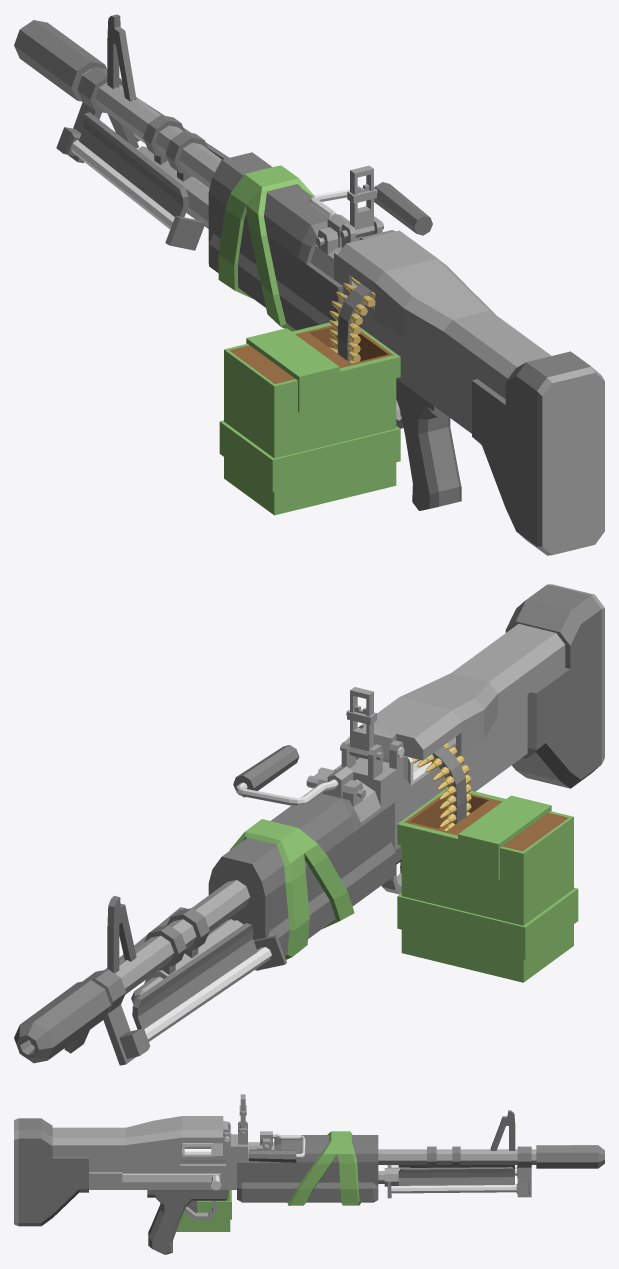
3 views of the same model, one above another, from view 1: azimuth 30°, elevation 25°; view 2: azimuth 150°, elevation 25°; view 3: azimuth 270°, elevation 25° (orthographic). The views are drawn at different scales.
Parts seen in each view (by area): view 1: M60, AmmoPouch, Lid, BipodLeft, GreenWrap, AmmoBelt, RearSight; view 2: M60, AmmoPouch, Lid, BipodLeft, GreenWrap, AmmoBelt, RearSight; view 3: M60, Lid, BipodRight, GreenWrap, AmmoPouch, ChargingHandle, FeedingTray, BipodLeft, RearSight.
Part boxes in pixels (box(x1,y1,x2,y2)): M60: box(14, 14, 604, 555); AmmoPouch: box(219, 320, 400, 515); Lid: box(337, 230, 551, 398); BipodLeft: box(56, 112, 205, 250); GreenWrap: box(218, 165, 314, 331); AmmoBelt: box(329, 278, 375, 363); RearSight: box(340, 165, 383, 238); M60: box(14, 584, 604, 1065); AmmoPouch: box(397, 787, 578, 982); Lid: box(358, 624, 565, 762); BipodLeft: box(119, 923, 286, 1058); GreenWrap: box(230, 819, 354, 959); AmmoBelt: box(412, 743, 471, 830); RearSight: box(340, 687, 383, 760); M60: box(14, 1110, 604, 1254); Lid: box(52, 1116, 230, 1157); BipodRight: box(387, 1167, 529, 1198); GreenWrap: box(287, 1131, 360, 1205); AmmoPouch: box(176, 1133, 231, 1231); ChargingHandle: box(122, 1173, 221, 1190); FeedingTray: box(182, 1143, 222, 1156); BipodLeft: box(387, 1165, 517, 1177); RearSight: box(239, 1094, 246, 1136).
Size of the model in its own units: 26.52 by 31.16 by 108.
